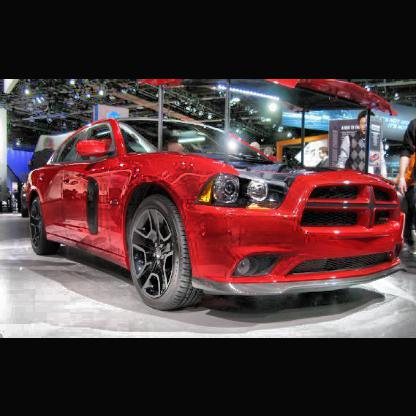Dodge Charger Sedan 2012: (28, 117, 405, 312)
